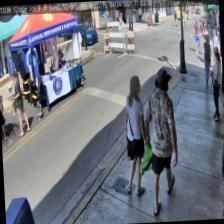person: (141, 68, 180, 215)
